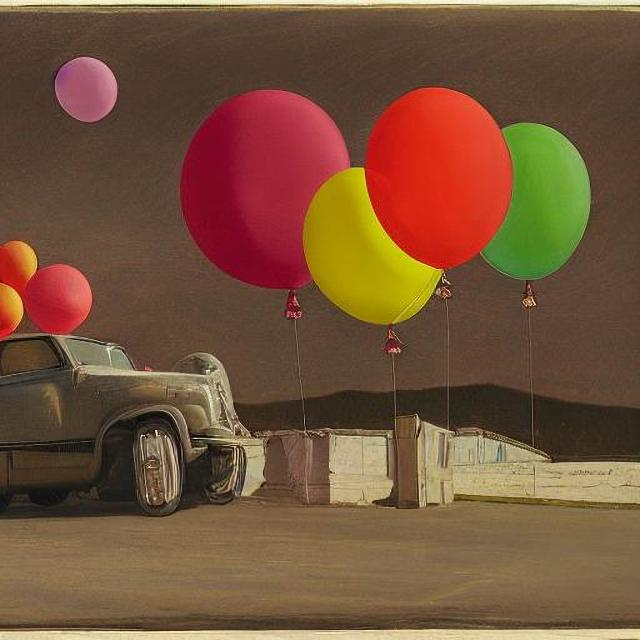balloon: (172, 90, 597, 336), (12, 257, 93, 335), (51, 54, 118, 121)
floating object: (379, 325, 404, 356)
